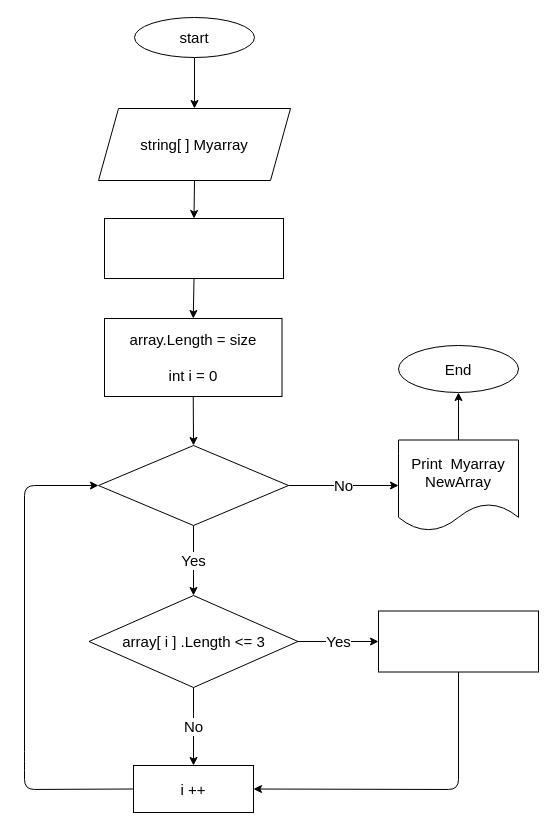
This 556x830 diagram has some shape labels left out. The centre of each missing label's shape, as x and y in pixels:
i < array.Length: point 193,485
Newarray[i] = array[i]: point 458,641
string[ ] Newarray: point 194,248
